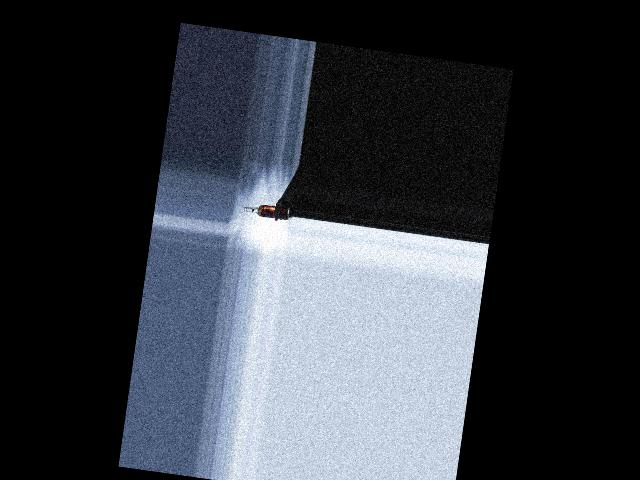beer: (243, 201, 289, 219)
